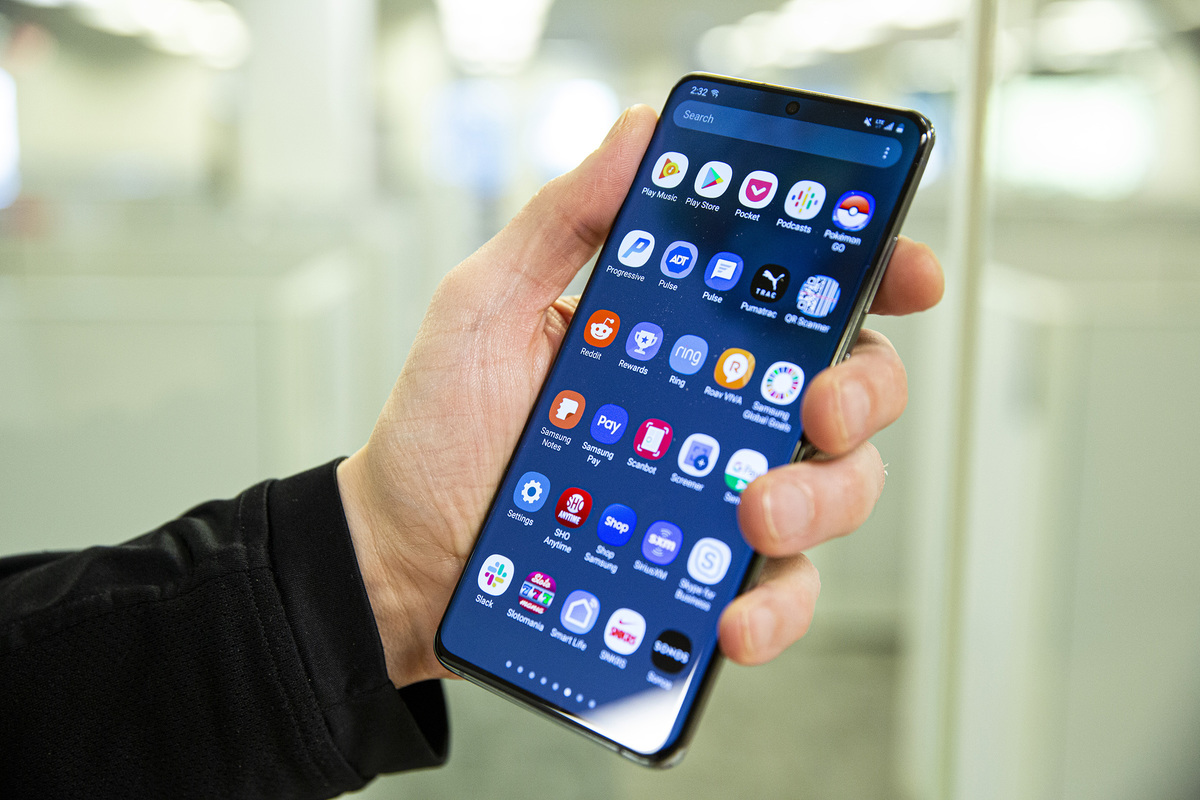Cell Phone: (463, 85, 916, 751)
